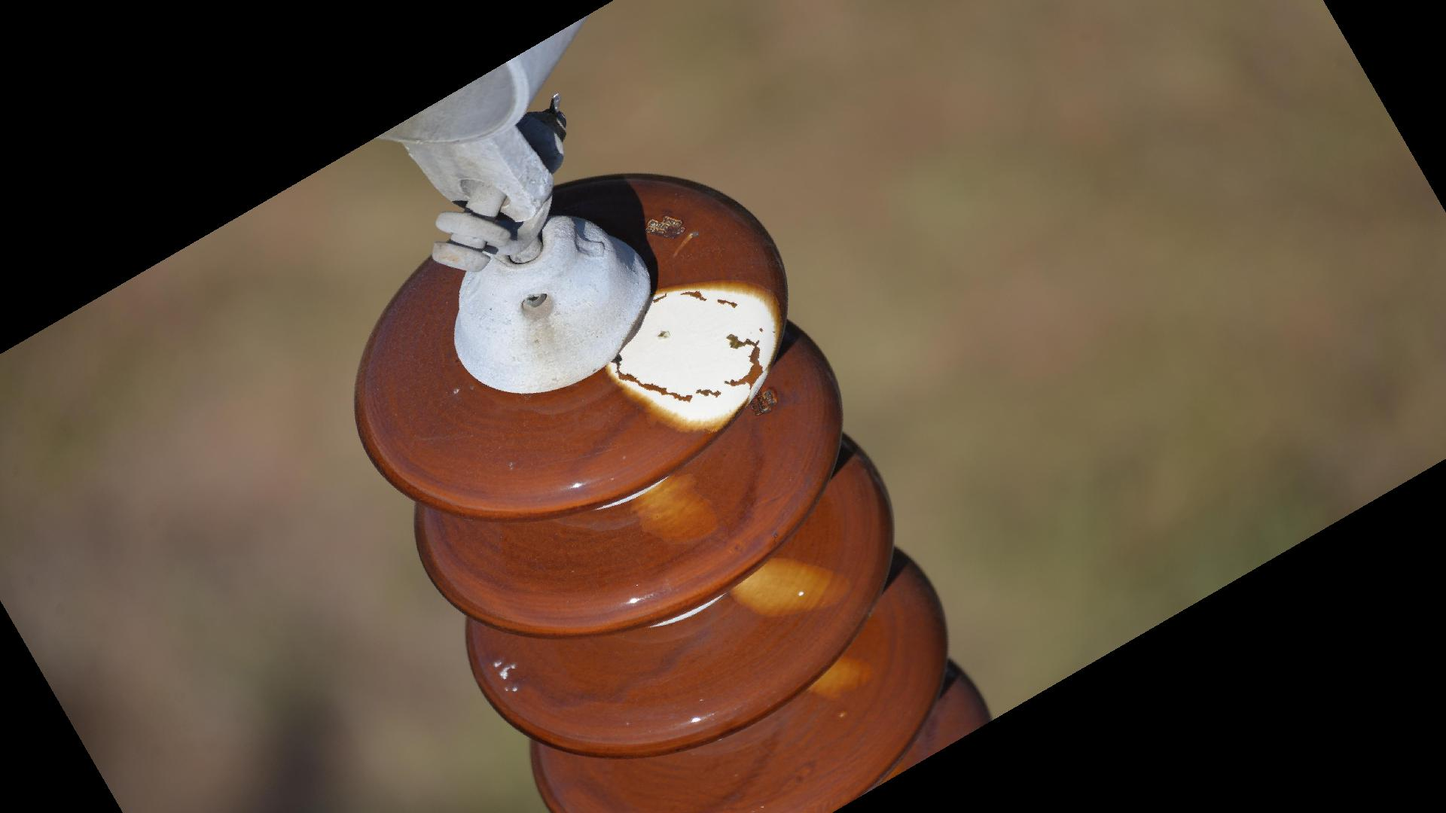insulator: (342, 165, 1000, 813)
insulator_flashover: (607, 282, 787, 437), (620, 466, 722, 554), (727, 551, 854, 621)
